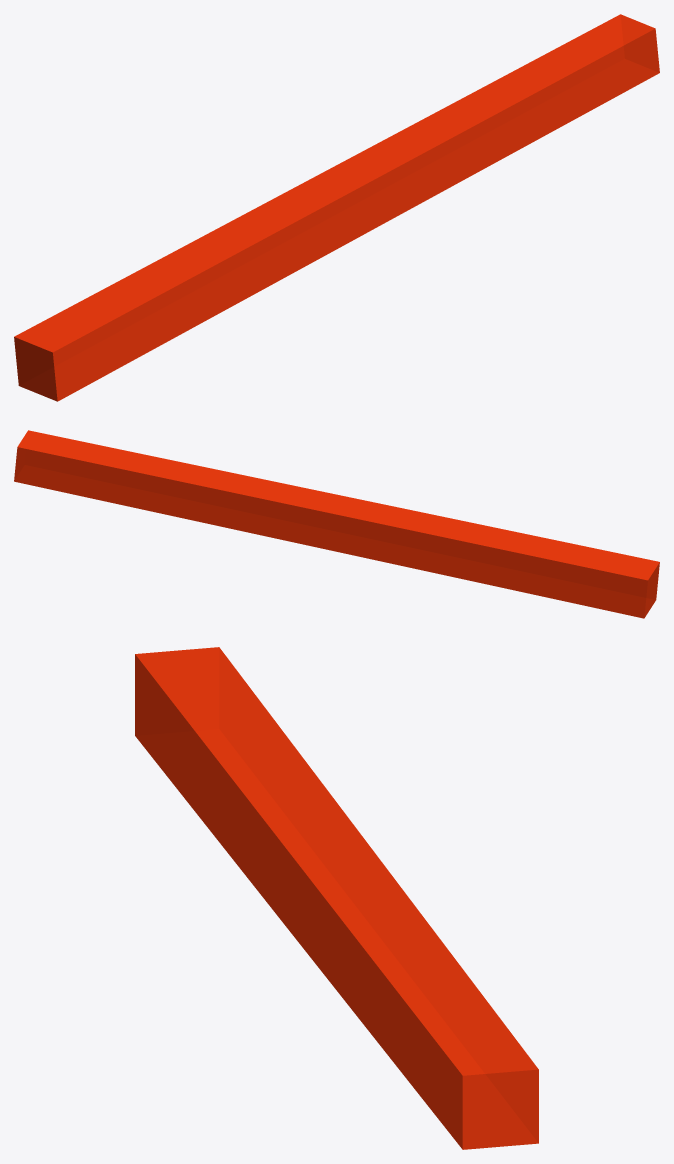
File: Event_421115418_EErechit_54.fbx
The picture shows the model from 3 angles, top to bottom: view 1: azimuth 30°, elevation 25°; view 2: azimuth 150°, elevation 25°; view 3: azimuth 270°, elevation 25°; orthographic projection. The views are drawn at different scales.
Visible parts, largest first — view 1: Model; view 2: Model; view 3: Model.
Boxes of the visible parts, x1,y1,x2,y2 form: Model: (14, 14, 659, 401); Model: (14, 430, 659, 618); Model: (135, 647, 538, 1149).
Size of the model in its own units: 1.2 by 0.199 by 0.3734.
